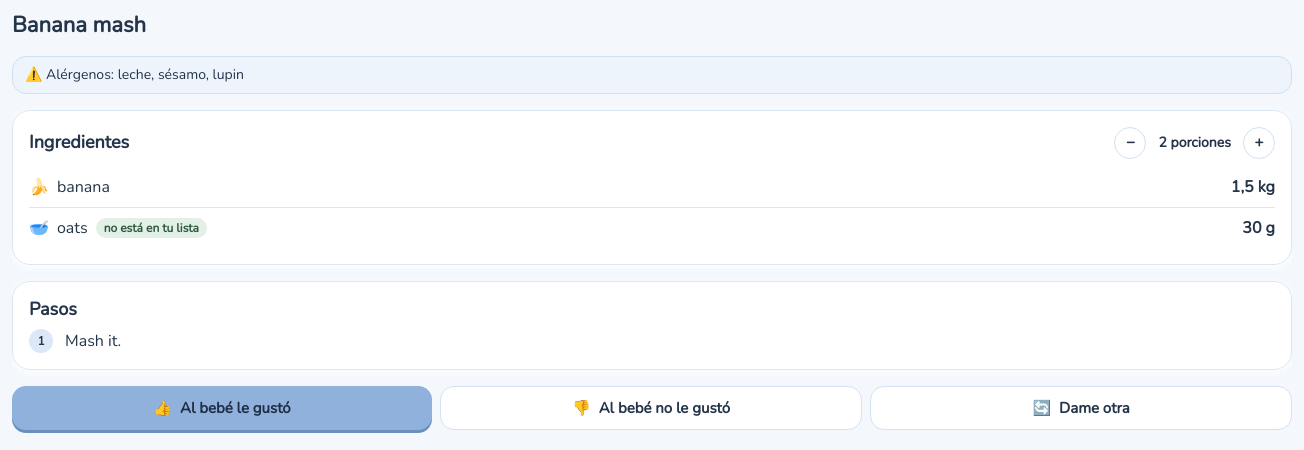
Test case: portions are counted in the language of the page
The width and height of the screenshot is (1304, 450).
expect the text "2 porciones" is shown: met, box [1158,132,1231,152]
Click the button named "Menos porciones". click: [1130, 142]
box: [1114,126,1146,158]
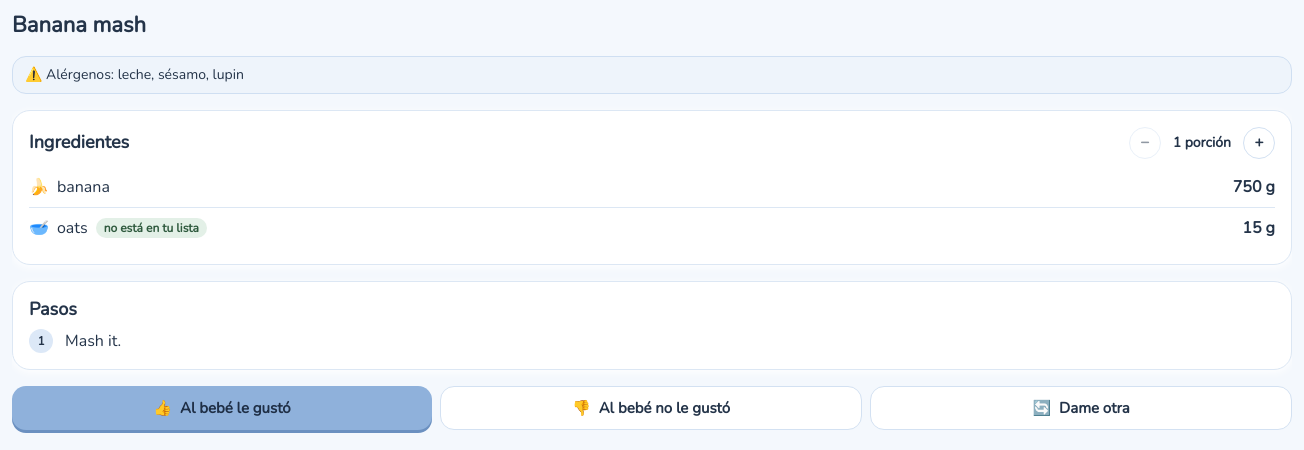
expect the text "1 porción" is shown: met, box [1173,132,1231,152]
